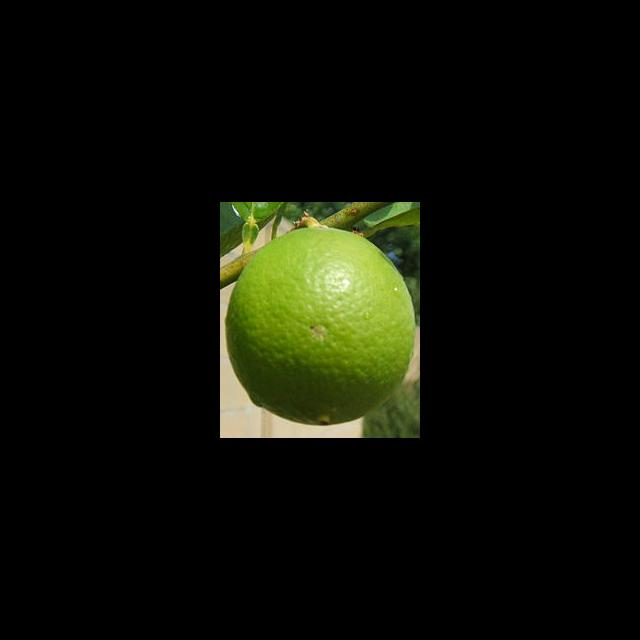lime: (224, 217, 419, 430)
